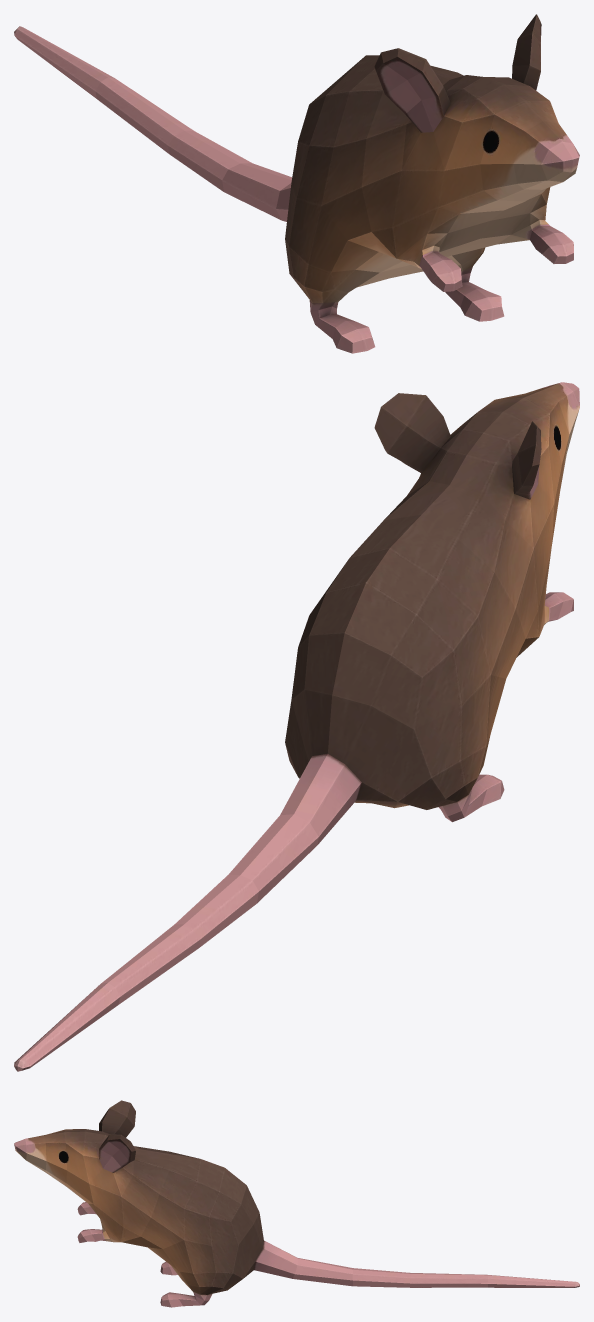
File: 4KKE4D2FV1D.glb
3 renders of one model, top to bottom at view 1: azimuth 30°, elevation 25°; view 2: azimuth 150°, elevation 25°; view 3: azimuth 270°, elevation 25°, orthographic. The views are drawn at different scales.
Visible parts, largest first — view 1: CairoSpinyMouse_Mesh; view 2: CairoSpinyMouse_Mesh; view 3: CairoSpinyMouse_Mesh.
Boxes of the visible parts, <box> form: CairoSpinyMouse_Mesh: <box>14,14,579,353</box>; CairoSpinyMouse_Mesh: <box>14,382,579,1071</box>; CairoSpinyMouse_Mesh: <box>14,1100,579,1307</box>.
Bounding box in the file's own units: 0.5537 × 1 × 2.99.
Materials: 1 (1 with a texture image).
